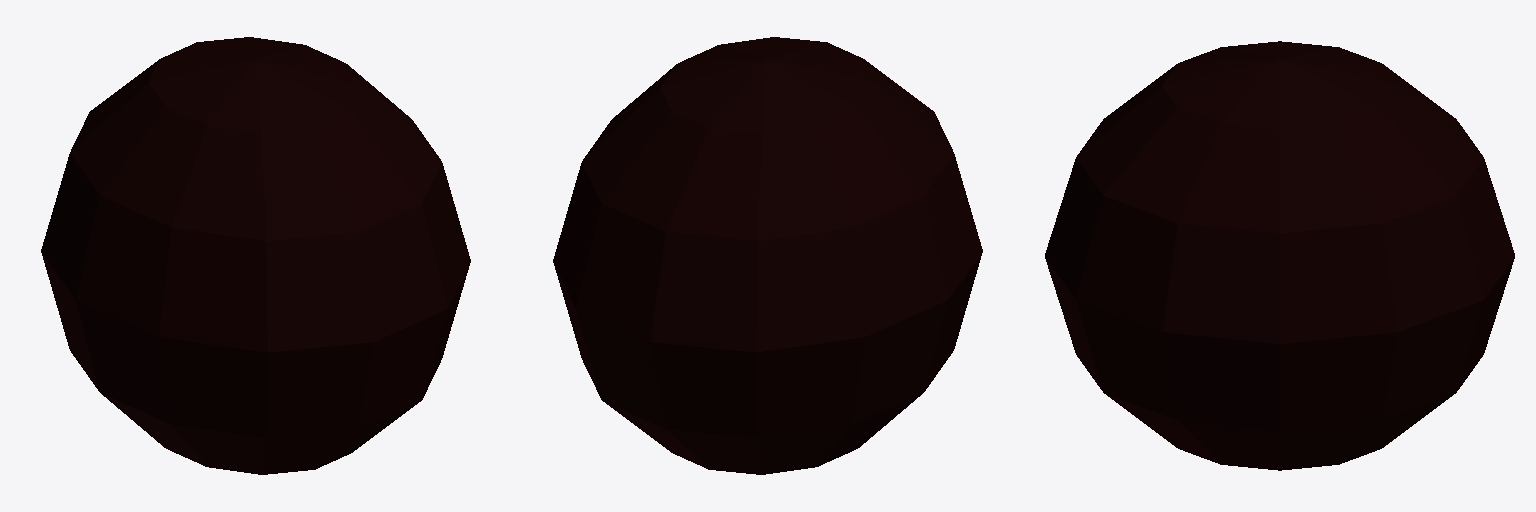
Rendered from EatenDarkLowRight.obj.
3 renders of one model, left to right at view 1: azimuth 30°, elevation 25°; view 2: azimuth 150°, elevation 25°; view 3: azimuth 270°, elevation 25°, orthographic.
Parts seen in each view (by area): view 1: pSphere3; view 2: pSphere3; view 3: pSphere3.
Part boxes in pixels (x1,y1,x2,y2): pSphere3: (41,37,470,474); pSphere3: (553,37,982,474); pSphere3: (1045,41,1514,470).
Bounding box in the file's own units: 5.9 × 6.17 × 6.68.